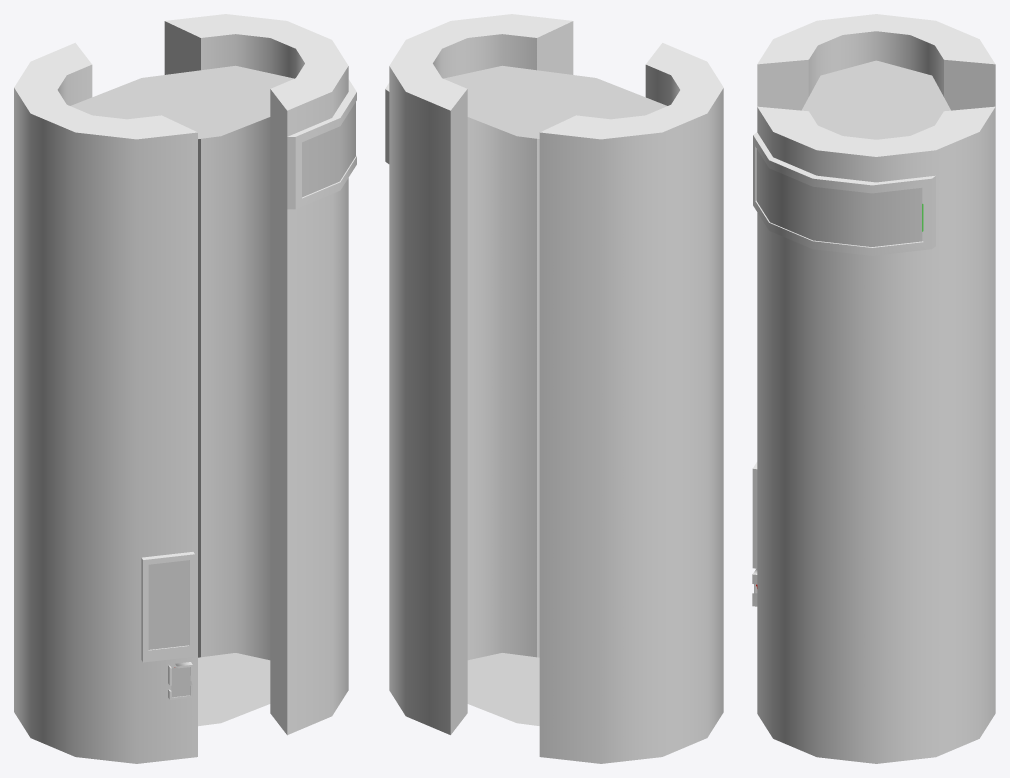
Rendered from Portal_Futuristic-Black.fbx.
The picture shows the model from 3 angles, left to right: view 1: azimuth 30°, elevation 25°; view 2: azimuth 150°, elevation 25°; view 3: azimuth 270°, elevation 25°; orthographic projection. The views are drawn at different scales.
Visible parts, largest first — view 1: Portal_Futuristic-Black, Portal_Futuristic-Circle-Green, Portal_Futuristic-Black-Decals; view 2: Portal_Futuristic-Black, Portal_Futuristic-Circle-Green; view 3: Portal_Futuristic-Black, Portal_Futuristic-Black-Decals, Portal_Futuristic-Circle-Green.
Boxes of the visible parts, x1=… form: Portal_Futuristic-Black: x1=14, y1=14, x2=356, y2=763; Portal_Futuristic-Circle-Green: x1=70, y1=65, x2=293, y2=726; Portal_Futuristic-Black-Decals: x1=148, y1=102, x2=355, y2=697; Portal_Futuristic-Black: x1=385, y1=14, x2=723, y2=763; Portal_Futuristic-Circle-Green: x1=444, y1=65, x2=667, y2=725; Portal_Futuristic-Black: x1=752, y1=14, x2=995, y2=763; Portal_Futuristic-Black-Decals: x1=754, y1=149, x2=922, y2=593; Portal_Futuristic-Circle-Green: x1=801, y1=60, x2=950, y2=139.
Size of the model in its own units: 1547 by 3000 by 1090.
Materials: 1 (1 with a texture image).
